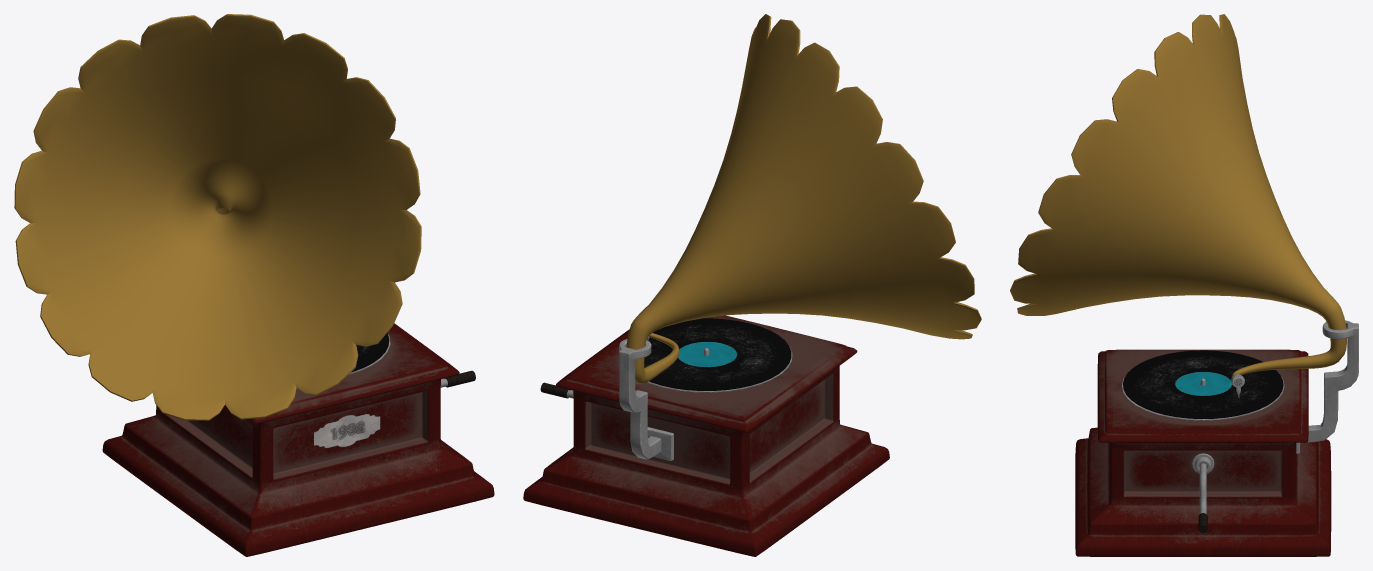
The picture shows the model from 3 angles, left to right: view 1: azimuth 30°, elevation 25°; view 2: azimuth 150°, elevation 25°; view 3: azimuth 270°, elevation 25°; orthographic projection. The views are drawn at different scales.
Parts seen in each view (by area): view 1: Horn_Flower, Wood, Record; view 2: Horn_Flower, Wood, Record, Holder, Horn_Curve; view 3: Horn_Flower, Wood, Record, Holder, Horn_Curve, Record_Holder.
Boxes of the visible parts, x1,y1,x2,y2 form: Horn_Flower: [14, 14, 421, 420]; Wood: [102, 323, 494, 556]; Record: [351, 333, 389, 372]; Horn_Flower: [626, 14, 981, 349]; Wood: [523, 315, 889, 556]; Record: [644, 318, 791, 390]; Holder: [619, 339, 673, 460]; Horn_Curve: [635, 333, 679, 384]; Horn_Flower: [1010, 14, 1346, 329]; Wood: [1075, 349, 1331, 556]; Record: [1123, 350, 1283, 419]; Holder: [1296, 320, 1358, 453]; Horn_Curve: [1231, 328, 1346, 376]; Record_Holder: [1122, 376, 1284, 420].
Size of the model in its own units: 0.1828 by 0.1884 by 0.1363.
Materials: 3 (3 with a texture image).
